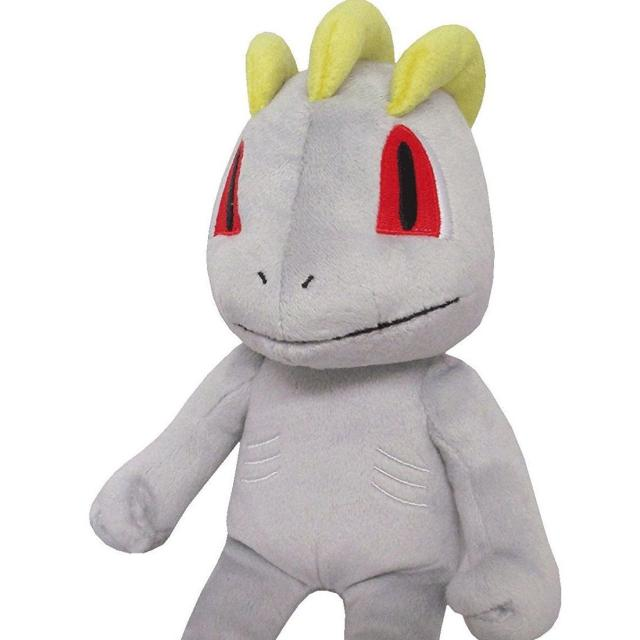Machop: (143, 9, 543, 640)
